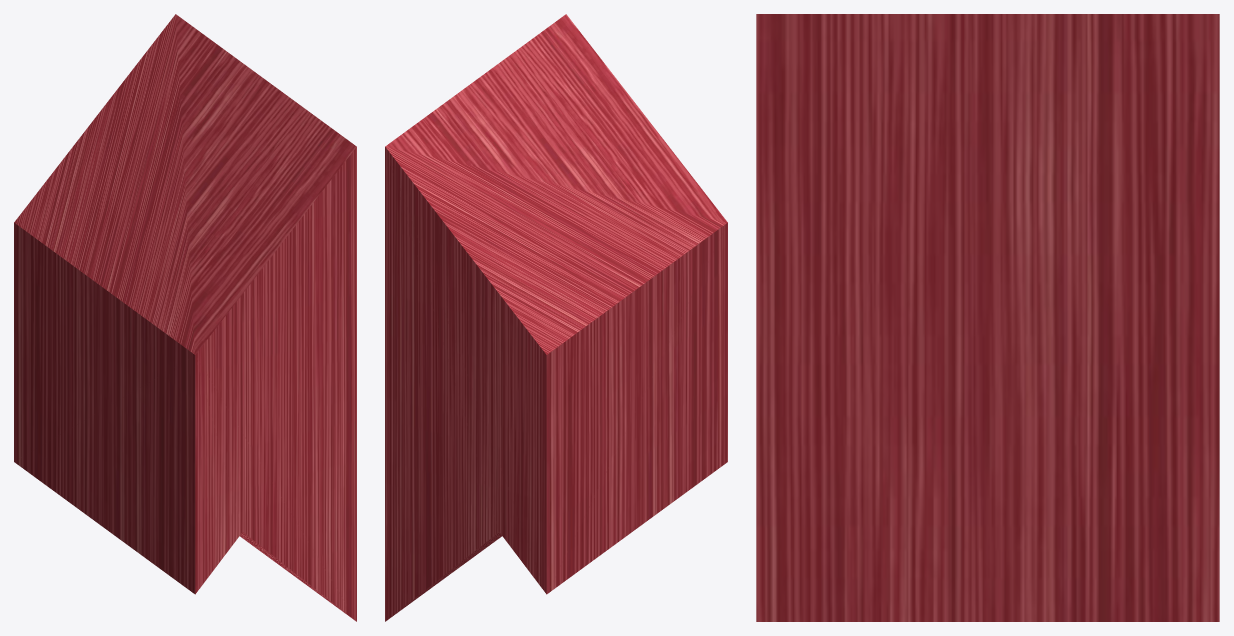
The picture shows the model from 3 angles, left to right: view 1: azimuth 30°, elevation 25°; view 2: azimuth 150°, elevation 25°; view 3: azimuth 270°, elevation 25°; orthographic projection. The views are drawn at different scales.
Visible parts, largest first — view 1: base2.001; view 2: base2.001; view 3: base2.001.
Part boxes in pixels (x1,y1,x2,y2): base2.001: (14,14,356,621); base2.001: (385,14,727,621); base2.001: (756,14,1219,621).
Bounding box in the file's own units: 0.7896 × 2.22 × 1.53.
1 material, 1 textured.
